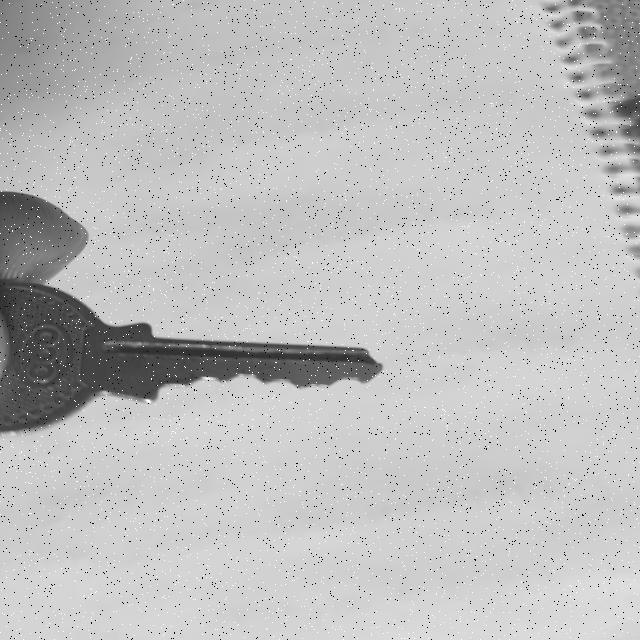key: (0, 282, 382, 436)
